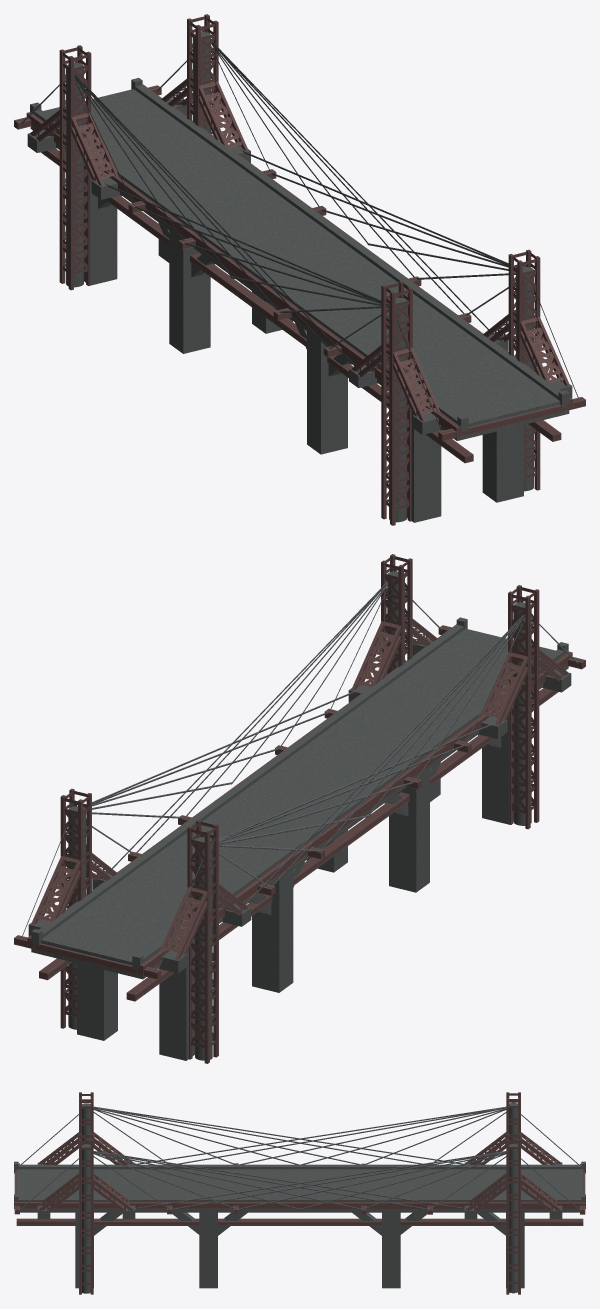
File: Ter_qiao01.FBX
3 renders of one model, top to bottom at view 1: azimuth 30°, elevation 25°; view 2: azimuth 150°, elevation 25°; view 3: azimuth 270°, elevation 25°, orthographic. The views are drawn at different scales.
Parts seen in each view (by area): view 1: Ter_qiao01; view 2: Ter_qiao01; view 3: Ter_qiao01.
Part boxes in pixels (left/top/right/bottom): Ter_qiao01: left=14, top=14, right=585, bottom=525; Ter_qiao01: left=14, top=554, right=585, bottom=1063; Ter_qiao01: left=14, top=1092, right=585, bottom=1294.
Bounding box in the file's own units: 2011 × 2970 × 9979.
